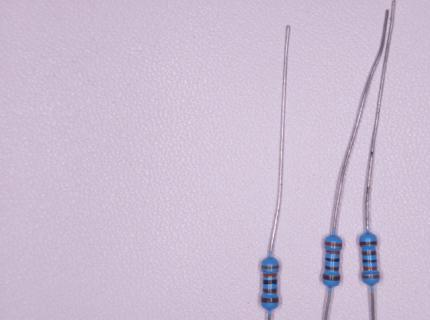Black band: (263, 279, 277, 284), (325, 257, 339, 262), (363, 259, 377, 263)
Brown band: (322, 274, 340, 281), (261, 297, 279, 303), (325, 265, 339, 271), (362, 250, 377, 255), (359, 241, 377, 245), (263, 288, 277, 293)
Orange band: (325, 241, 342, 247), (362, 274, 380, 279), (261, 265, 279, 269), (326, 250, 340, 255), (263, 273, 277, 277), (364, 266, 377, 270)
